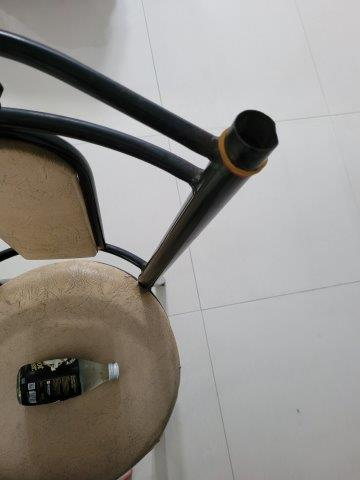botolkaca: (17, 356, 120, 405)
